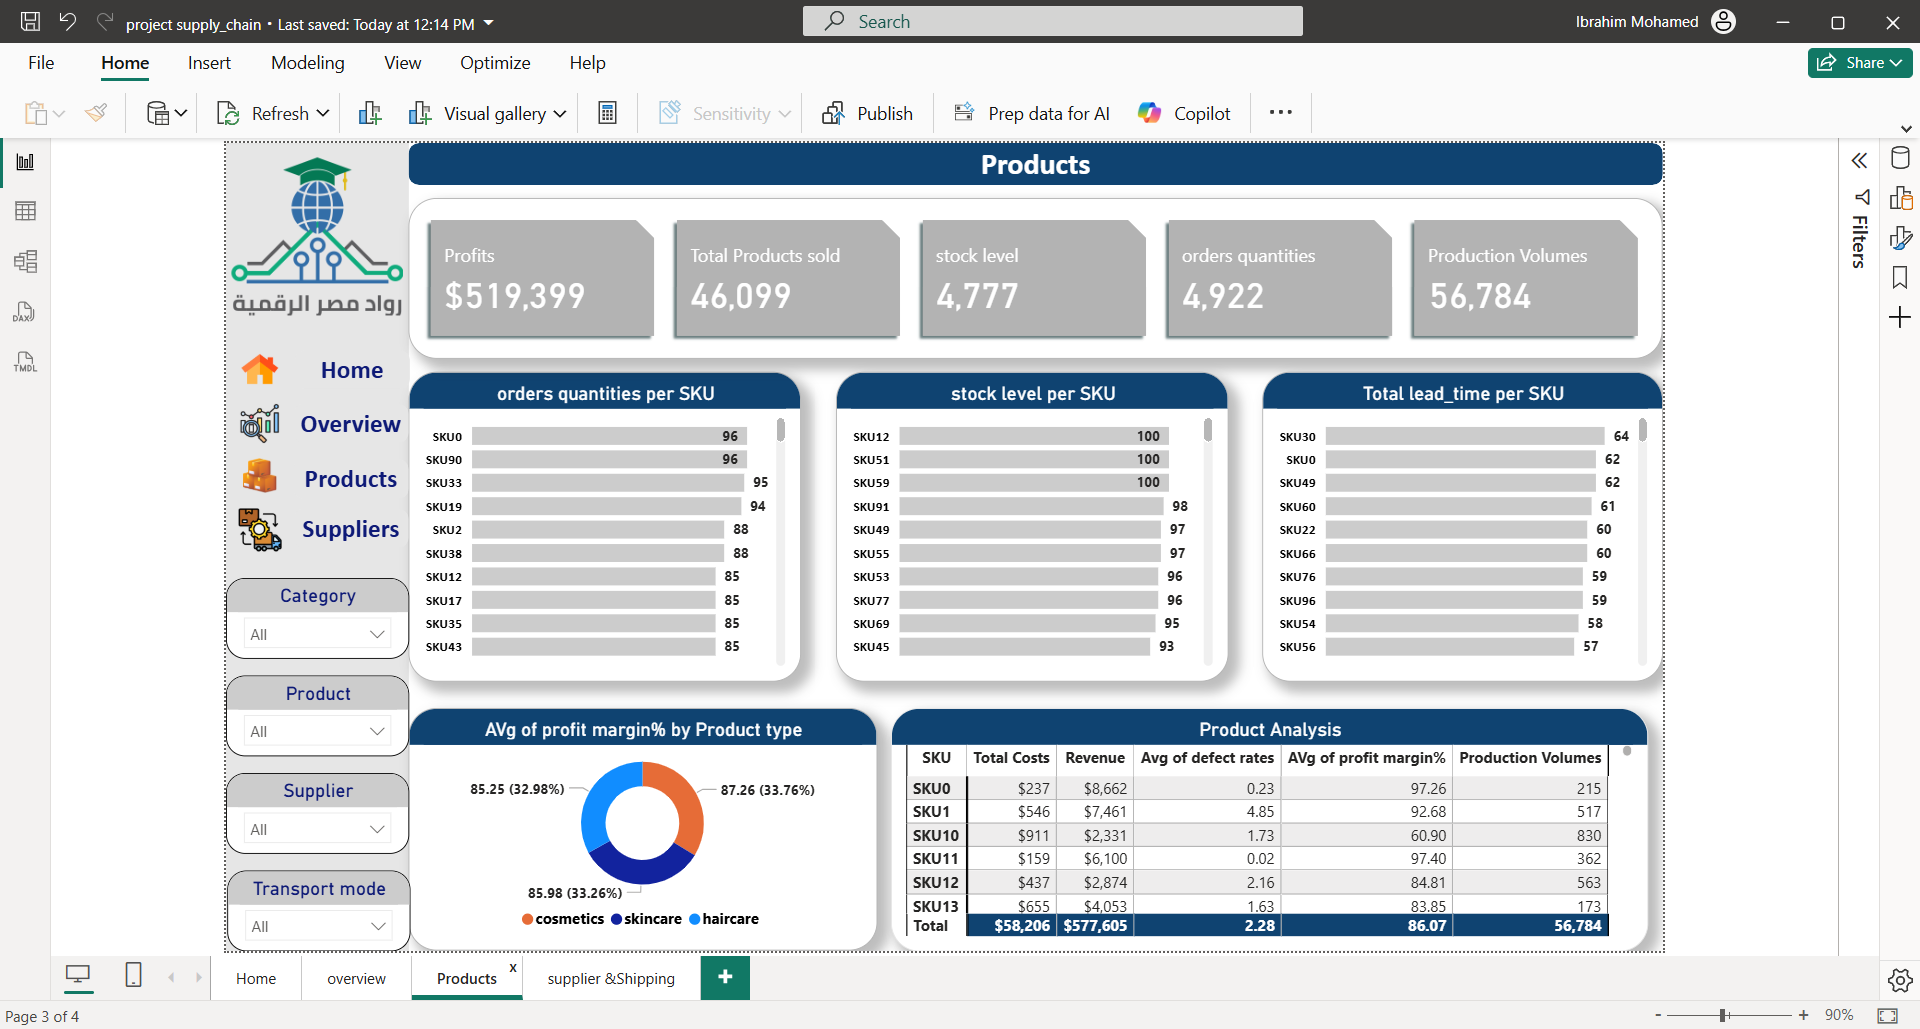

This screenshot's page, from the dashboard's own definition file:
{"tool":"powerbi","page":{"name":"Products","canvas":[1280,720],"ordinal":1},"visuals":[{"type":"shape","box":[0,0,162.9,919.3],"z":0},{"type":"shape","box":[162.8,0,1117.2,37.4],"z":1000},{"type":"image","box":[0,0,162.9,166.5],"z":2000},{"type":"pivotTable","fields":{"Rows":["supply_chain.Supplier name"],"Values":["Data Measures.AVg of profit margin%"]},"box":[982.5,512.7,297.5,207.3],"z":3000},{"type":"donutChart","fields":{"Category":["dim category.Product type"],"Y":["calculations.AVg of profit margin%"]},"box":[162.9,503.1,417.4,216],"z":4000},{"type":"clusteredBarChart","fields":{"Category":["supply_chain.SKU"],"Y":["calculations.orders quantities"]},"box":[162.9,203.9,349.9,276.3],"z":5000},{"type":"cardVisual","fields":{"Data":["calculations.Total Revenue","calculations.Total Products sold","calculations.stock level","calculations.orders quantities","calculations.Total Production Volumes"]},"box":[162.9,49.5,1117.2,143.6],"z":6000},{"type":"pivotTable","fields":{"Values":["calculations.Total Costs","calculations.Total Revenue","calculations.Avg of defect rates%","calculations.AVg of profit margin%","calculations.Total Production Volumes"],"Rows":["supply_chain.SKU"]},"box":[596,489.8,684.1,229.2],"z":7000},{"type":"clusteredBarChart","fields":{"Category":["supply_chain.SKU"],"Y":["calculations.stock level"]},"box":[542.9,203.9,349.9,276.3],"z":8000},{"type":"clusteredBarChart","fields":{"Category":["supply_chain.SKU"],"Y":["calculations.Total lead_time"]},"box":[922.9,203.9,357.1,276.3],"z":9000}]}

Visuals, with their boxes on the page's 1280x720 design canvas (x1, y1, x2, y2). These are canvas units, not pixel positions in the 1920x1029 screenshot, which may show the page scaled, cropped or inside an application window:
shape: (0, 0, 163, 919)
shape: (163, 0, 1280, 37)
image: (0, 0, 163, 166)
pivotTable - supply_chain.Supplier name x Data Measures.AVg of profit margin%: (982, 513, 1280, 720)
donutChart - dim category.Product type x calculations.AVg of profit margin%: (163, 503, 580, 719)
clusteredBarChart - supply_chain.SKU x calculations.orders quantities: (163, 204, 513, 480)
cardVisual - calculations.Total Revenue x calculations.Total Products sold: (163, 50, 1280, 193)
pivotTable - calculations.Total Costs x calculations.Total Revenue: (596, 490, 1280, 719)
clusteredBarChart - supply_chain.SKU x calculations.stock level: (543, 204, 893, 480)
clusteredBarChart - supply_chain.SKU x calculations.Total lead_time: (923, 204, 1280, 480)
